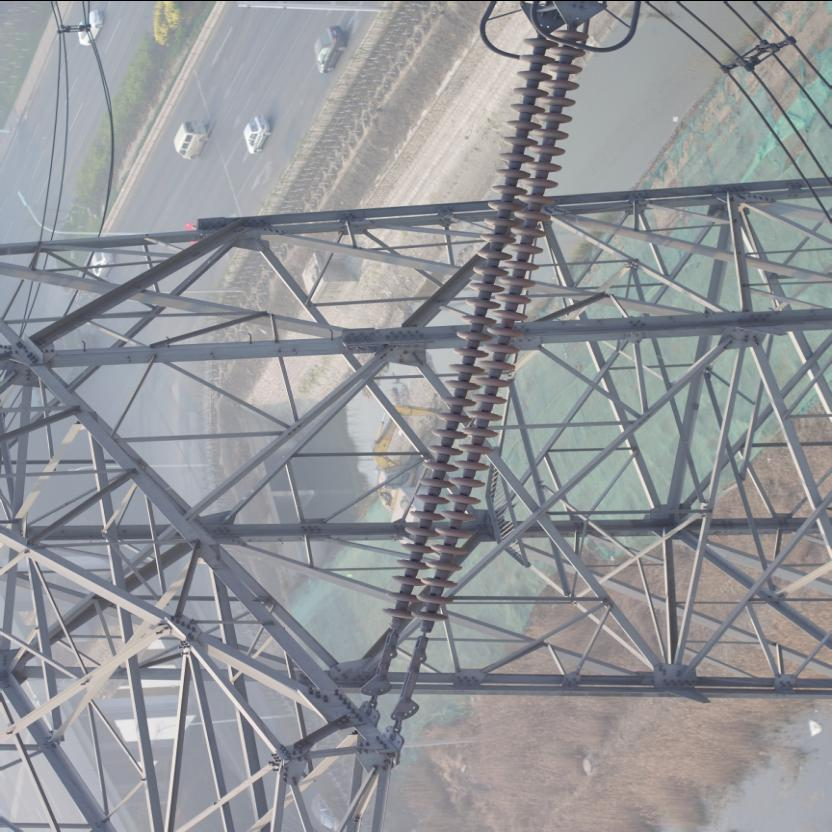insulator: (376, 11, 596, 673)
